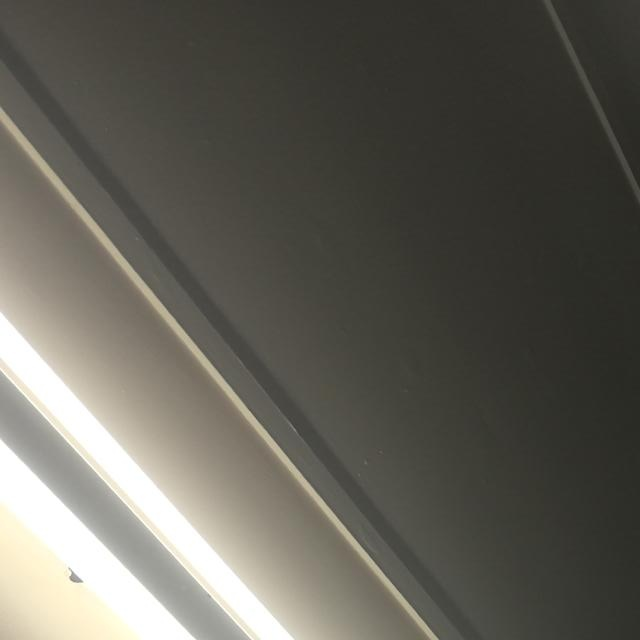fluorescent tube: (0, 303, 501, 640), (0, 443, 456, 640)
